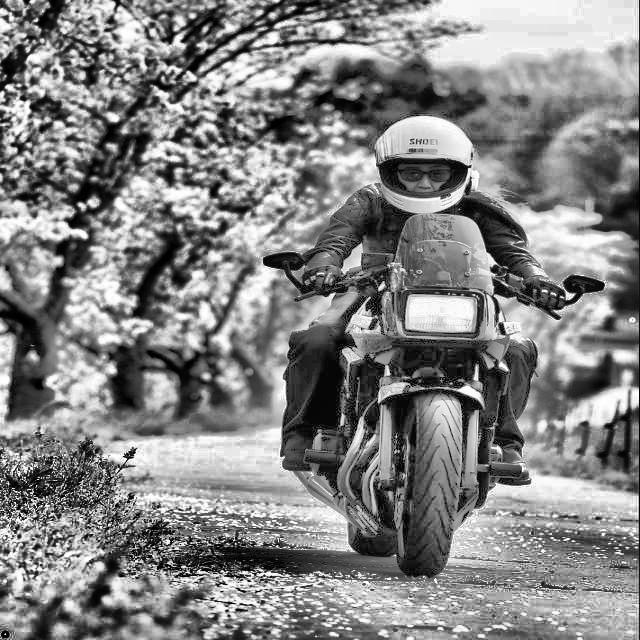Helmet: (368, 112, 481, 218)
